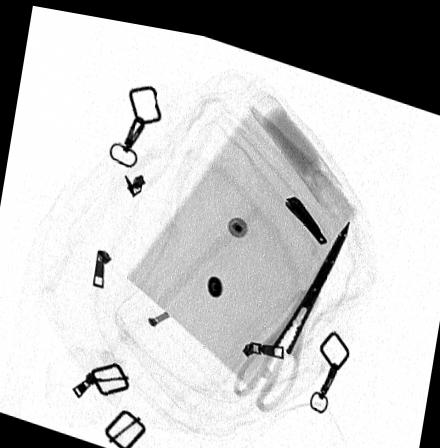Scissors: (231, 203, 355, 405)
